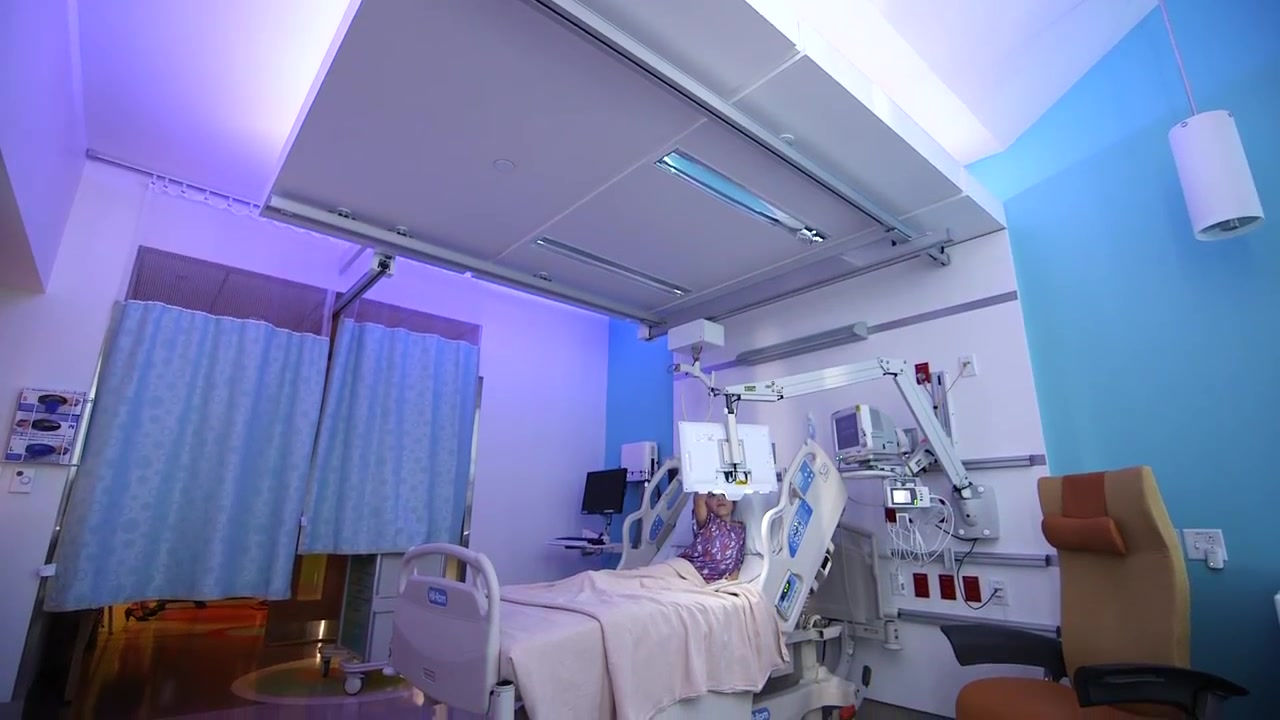bedrail: (757, 439, 848, 630), (617, 458, 690, 572)
bedside_monitor: (677, 421, 778, 492), (831, 409, 863, 452)
chair: (942, 466, 1249, 720)
computer: (579, 467, 630, 516)
curtain: (39, 250, 331, 611), (295, 297, 481, 555)
dispenser: (11, 386, 90, 466), (619, 441, 659, 483)
foot_board: (387, 542, 514, 716)
handle: (352, 607, 362, 614), (355, 588, 365, 595), (355, 576, 366, 582)
hospital_bed: (384, 420, 851, 720)
medical_drawer: (319, 554, 435, 691)
patient: (637, 491, 749, 596)
